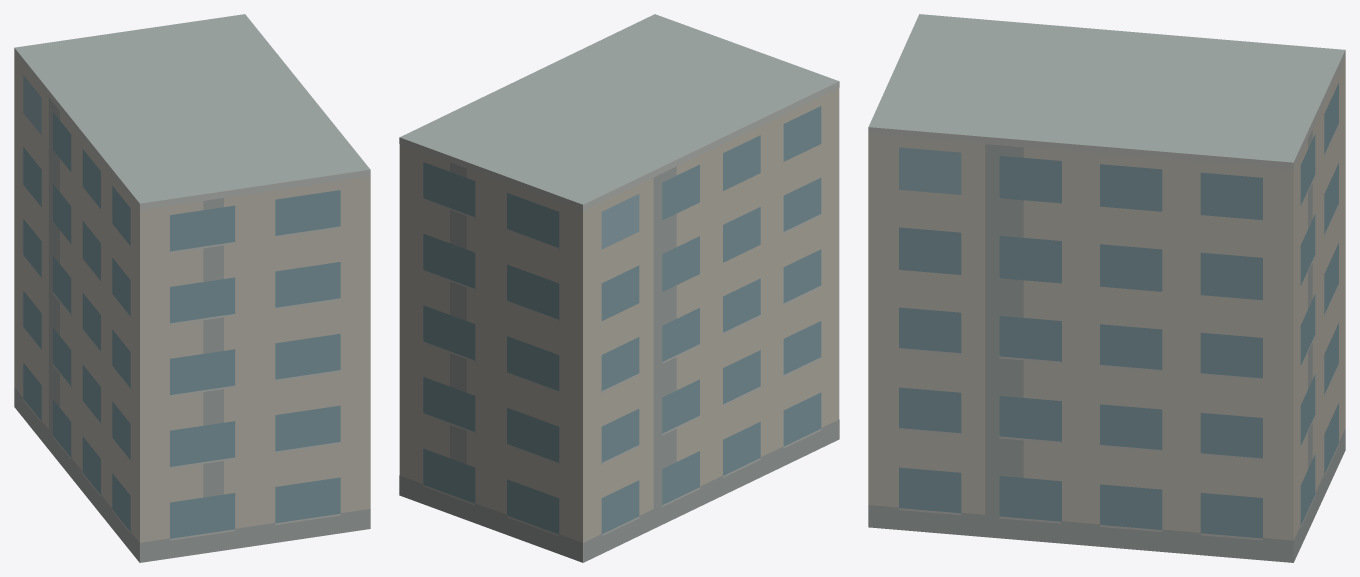
File: survey-upis-32885332.glb
3 views of the same model, side by side, from view 1: azimuth 30°, elevation 25°; view 2: azimuth 150°, elevation 25°; view 3: azimuth 270°, elevation 25° (orthographic). The views are drawn at different scales.
Visible parts, largest first — view 1: survey-upis-32885332.tmp; view 2: survey-upis-32885332.tmp; view 3: survey-upis-32885332.tmp.
Part boxes in pixels (bbox=[...]): survey-upis-32885332.tmp: bbox=[14, 14, 370, 562]; survey-upis-32885332.tmp: bbox=[399, 14, 839, 562]; survey-upis-32885332.tmp: bbox=[868, 14, 1345, 562].
Size of the model in its own units: 10.6 by 13.3 by 14.38.
